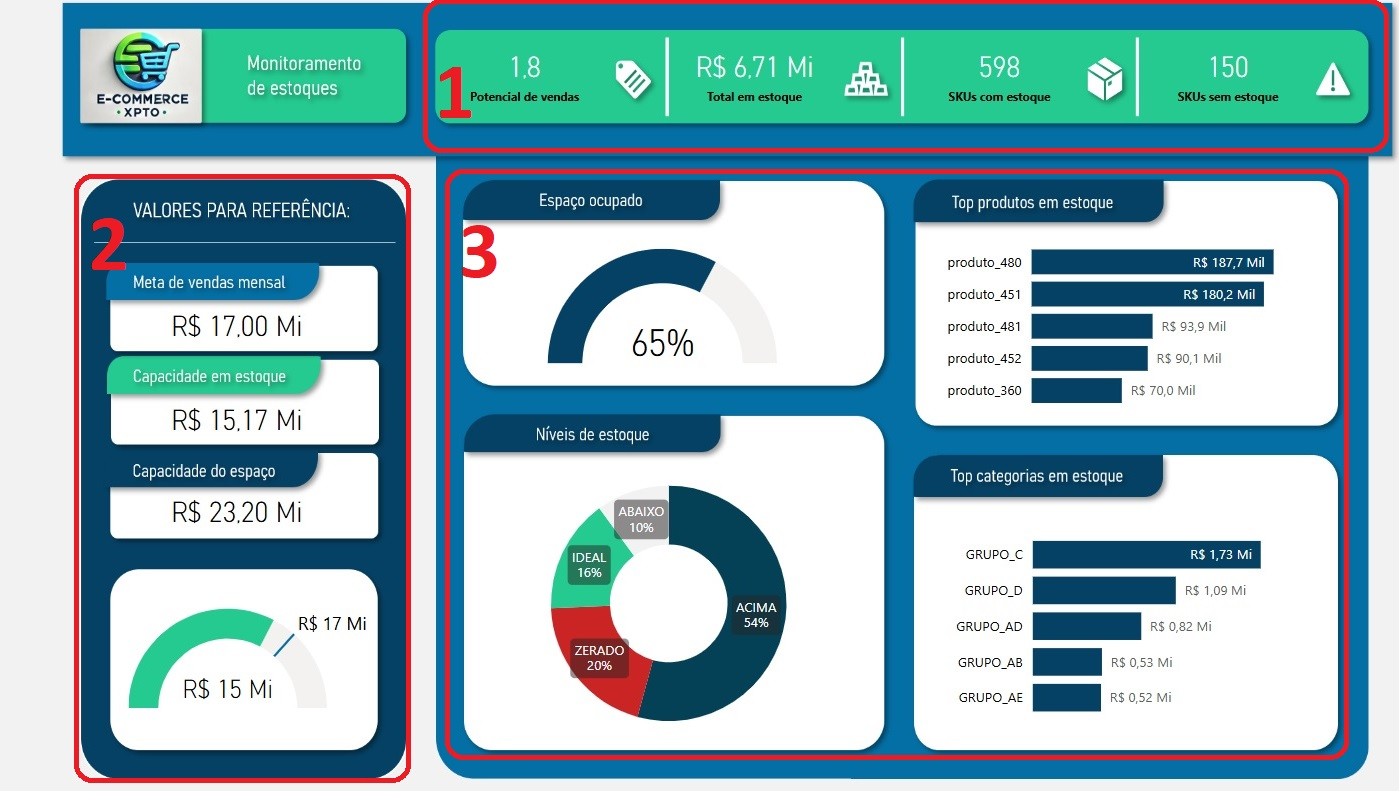

The dashboard page shown, as its layout file describes it:
{"tool":"powerbi","page":{"name":"Página 1","canvas":[1280,720],"ordinal":0},"visuals":[{"type":"donutChart","fields":{"Category":["Sheet1.nivel_estoque"],"Y":["CountNonNull(Sheet1.nivel_estoque)"]},"box":[366.8,407.9,497.5,280.8],"z":0},{"type":"barChart","fields":{"Category":["Sheet1.categoria"],"Y":["Sum(Sheet1.custo_total)"]},"box":[866.7,464.8,348.6,199.7],"z":1000},{"type":"barChart","fields":{"Category":["Sheet1.descricao"],"Y":["Sum(Sheet1.custo_total)"]},"box":[858.2,202.2,372.8,181.6],"z":2000},{"type":"gauge","fields":{"Y":["Sum(Sheet1.espaco_ocupado)"],"MaxValue":["Max(Sheet1.espaco_disponivel)"]},"box":[487.8,226.4,243.3,104.1],"z":3000},{"type":"card","fields":{"Values":["CountNonNull(Sheet1.estoque_atual)"]},"box":[1030.1,20.6,185.2,92],"z":4000},{"type":"card","fields":{"Values":["CountNonNull(Sheet1.estoque_atual)"]},"box":[828,20.6,174.3,92],"z":5000},{"type":"card","fields":{"Values":["Sum(Sheet1.custo_total)"]},"box":[606.5,20.6,174.3,92],"z":6000},{"type":"card","fields":{"Values":["Max(Sheet1.indicador_potencial)"]},"box":[397,20.6,174.3,92],"z":7000},{"type":"card","fields":{"Values":["Max(Sheet1.meta_de_vendas)"]},"box":[84.2,248.9,278.3,91.9],"z":8000},{"type":"card","fields":{"Values":["Max(Sheet1.potencial_do_espaco_disponivel)"]},"box":[84.2,417.4,278.3,91.9],"z":9000},{"type":"card","fields":{"Values":["Max(Sheet1.potencial_do_espaco_ocupado)"]},"box":[84.2,334.4,278.3,90.6],"z":10000},{"type":"gauge","fields":{"MaxValue":["Max(Sheet1.potencial_do_espaco_disponivel)"],"Y":["Max(Sheet1.potencial_do_espaco_ocupado)"],"TargetValue":["Max(Sheet1.meta_de_vendas)"]},"box":[124.7,502.4,222.7,190],"z":11000}]}

Visuals, with their boxes in screenshot pixels (x1, y1, x2, y2), scaled from the page's 1280x720 canvas onto the 1399x791 screenshot:
donutChart - Sheet1.nivel_estoque x CountNonNull(Sheet1.nivel_estoque): Rect(401, 448, 945, 757)
barChart - Sheet1.categoria x Sum(Sheet1.custo_total): Rect(947, 511, 1328, 730)
barChart - Sheet1.descricao x Sum(Sheet1.custo_total): Rect(938, 222, 1345, 422)
gauge - Sum(Sheet1.espaco_ocupado) x Max(Sheet1.espaco_disponivel): Rect(533, 249, 799, 363)
card - CountNonNull(Sheet1.estoque_atual): Rect(1126, 23, 1328, 124)
card - CountNonNull(Sheet1.estoque_atual): Rect(905, 23, 1095, 124)
card - Sum(Sheet1.custo_total): Rect(663, 23, 853, 124)
card - Max(Sheet1.indicador_potencial): Rect(434, 23, 624, 124)
card - Max(Sheet1.meta_de_vendas): Rect(92, 273, 396, 374)
card - Max(Sheet1.potencial_do_espaco_disponivel): Rect(92, 459, 396, 560)
card - Max(Sheet1.potencial_do_espaco_ocupado): Rect(92, 367, 396, 467)
gauge - Max(Sheet1.potencial_do_espaco_disponivel) x Max(Sheet1.potencial_do_espaco_ocupado): Rect(136, 552, 380, 761)
